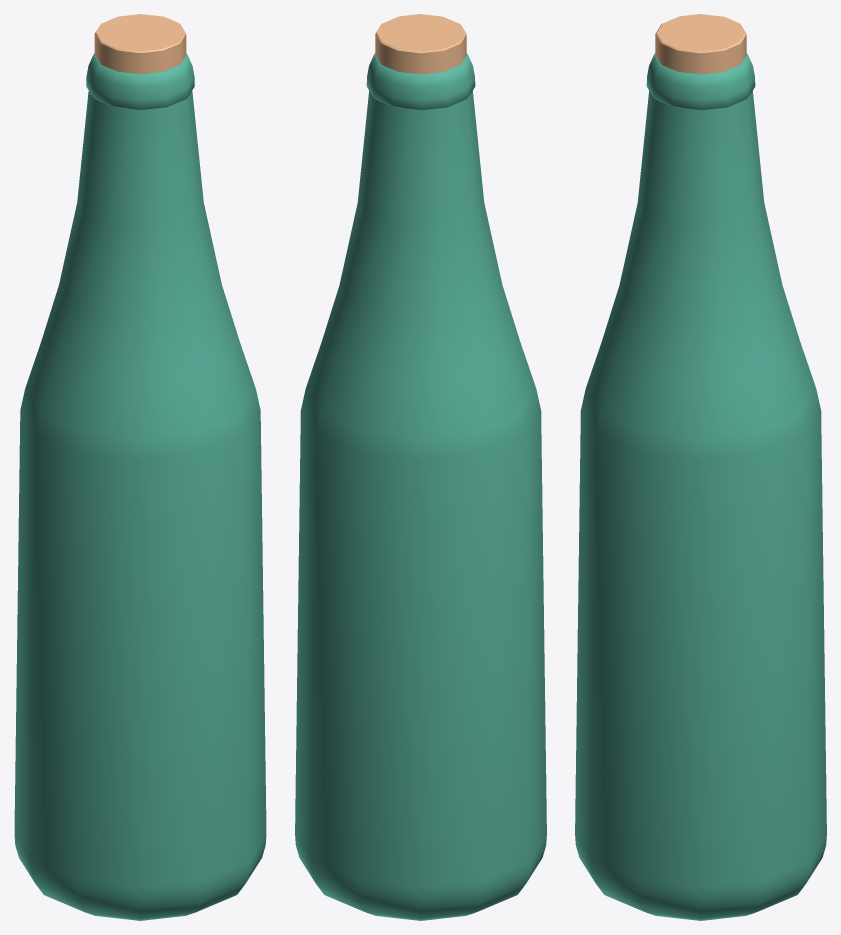
Rendered from garrafa.fbx.
The picture shows the model from 3 angles, left to right: view 1: azimuth 30°, elevation 25°; view 2: azimuth 150°, elevation 25°; view 3: azimuth 270°, elevation 25°; orthographic projection.
Parts seen in each view (by area): view 1: garrafa; view 2: garrafa; view 3: garrafa.
Part boxes in pixels (x1=…): garrafa: x1=14, y1=14, x2=266, y2=920; garrafa: x1=295, y1=14, x2=546, y2=920; garrafa: x1=575, y1=14, x2=826, y2=920.
Bounding box in the file's own units: 7.68 × 28.57 × 7.68.
